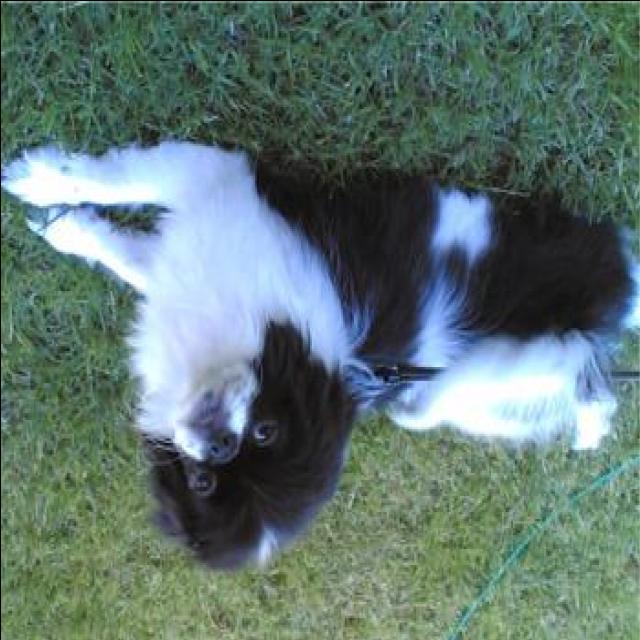husky: (2, 132, 638, 582)
